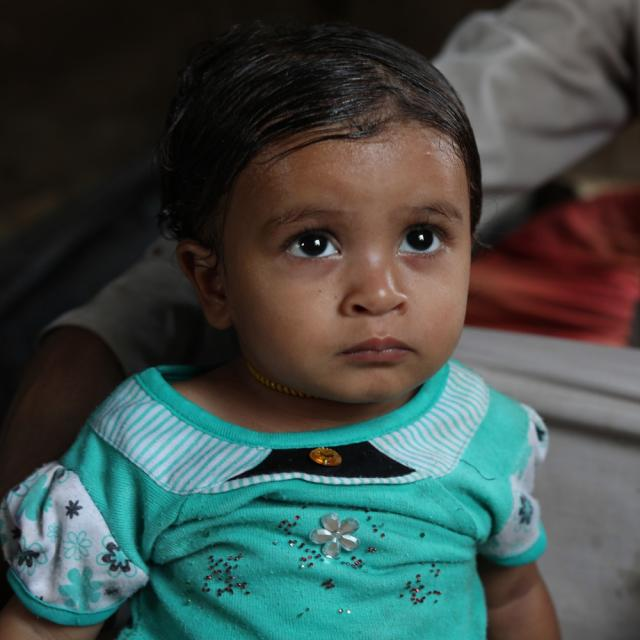child: (0, 19, 563, 640)
